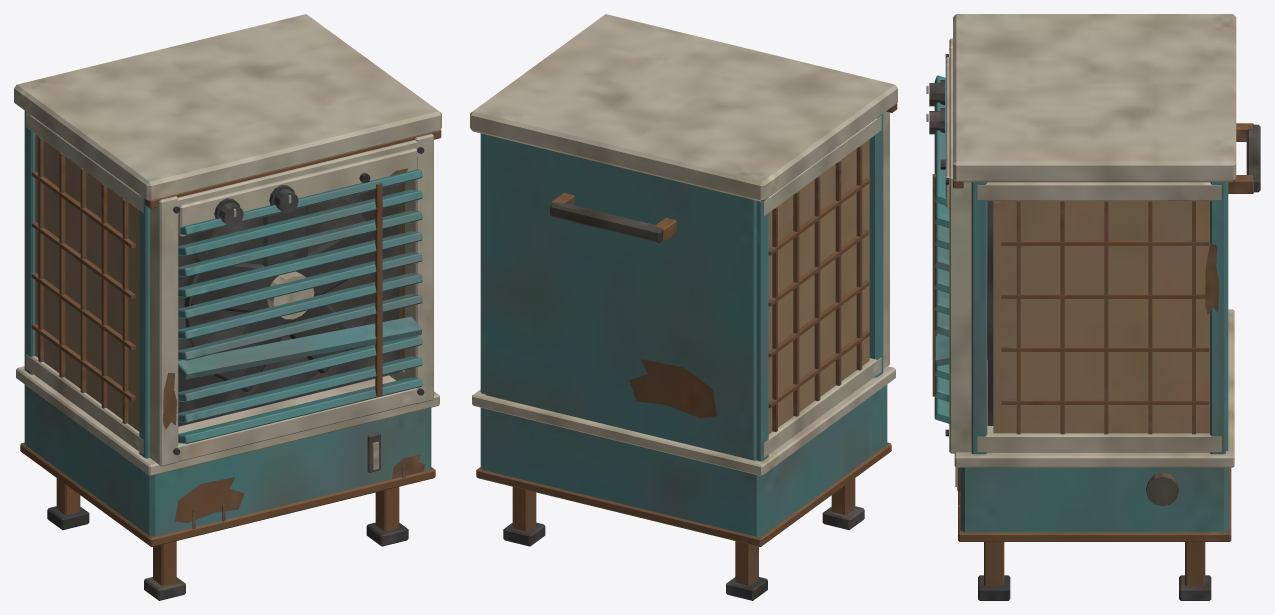
File: L18_air_cooler.glb
3 renders of one model, left to right at view 1: azimuth 30°, elevation 25°; view 2: azimuth 150°, elevation 25°; view 3: azimuth 270°, elevation 25°, orthographic. The views are drawn at different scales.
Parts seen in each view (by area): view 1: Rusty angle leg; view 2: Rusty angle leg; view 3: Rusty angle leg.
Part boxes in pixels (x1,y1,x2,y2): Rusty angle leg: [14, 14, 441, 600]; Rusty angle leg: [470, 14, 897, 600]; Rusty angle leg: [926, 14, 1260, 600].
Size of the model in its own units: 0.6538 by 0.9 by 0.6056.
7 materials, 7 textured.
